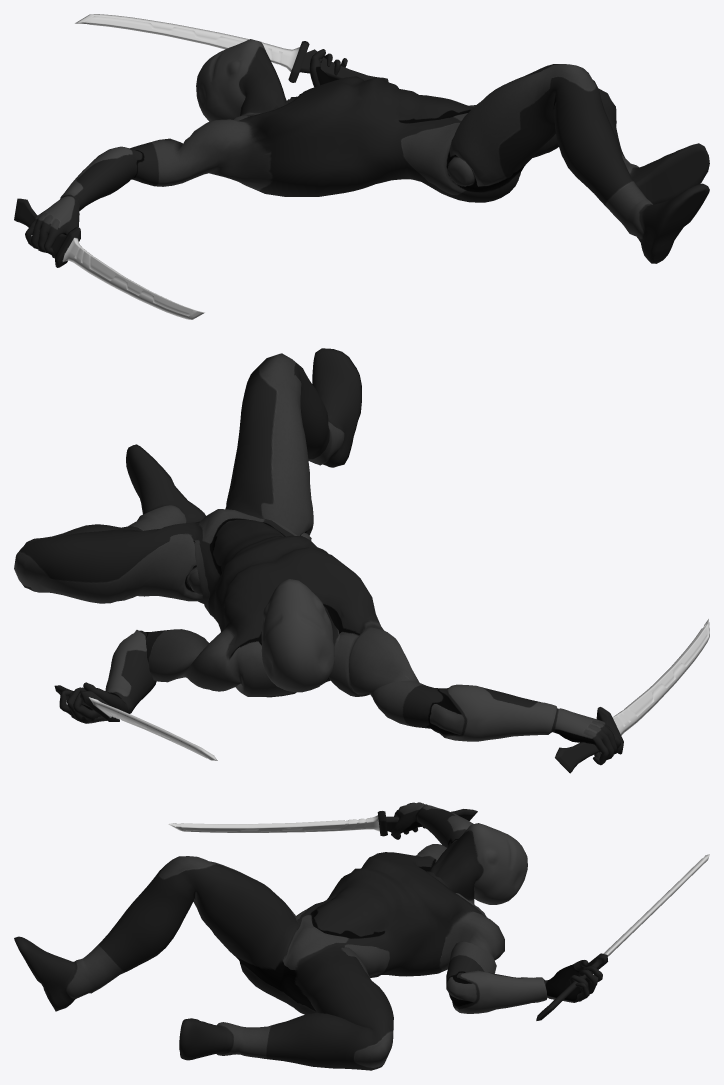
3 renders of one model, top to bottom at view 1: azimuth 30°, elevation 25°; view 2: azimuth 150°, elevation 25°; view 3: azimuth 270°, elevation 25°, orthographic. The views are drawn at different scales.
Parts seen in each view (by area): view 1: Cyborg_Ninja_Killer, Sword_l, Sword_l001; view 2: Cyborg_Ninja_Killer, Sword_l001, Sword_l; view 3: Cyborg_Ninja_Killer, Sword_l001, Sword_l.
Part boxes in pixels (x1,y1,x2,y2): Cyborg_Ninja_Killer: [25, 39, 709, 263]; Sword_l: [75, 14, 388, 82]; Sword_l001: [14, 198, 204, 319]; Cyborg_Ninja_Killer: [14, 348, 620, 765]; Sword_l001: [555, 619, 709, 773]; Sword_l: [54, 685, 217, 760]; Cyborg_Ninja_Killer: [14, 802, 602, 1070]; Sword_l001: [168, 809, 477, 836]; Sword_l: [536, 854, 709, 1020].
Bounding box in the file's own units: 176 × 53.9 × 199.
2 materials, 2 textured.
